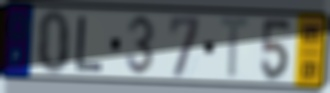0: (32, 9, 72, 77)
3: (124, 14, 157, 78)
5: (259, 17, 294, 84)
7: (167, 13, 202, 81)
L: (73, 14, 106, 73)
T: (217, 15, 254, 82)
